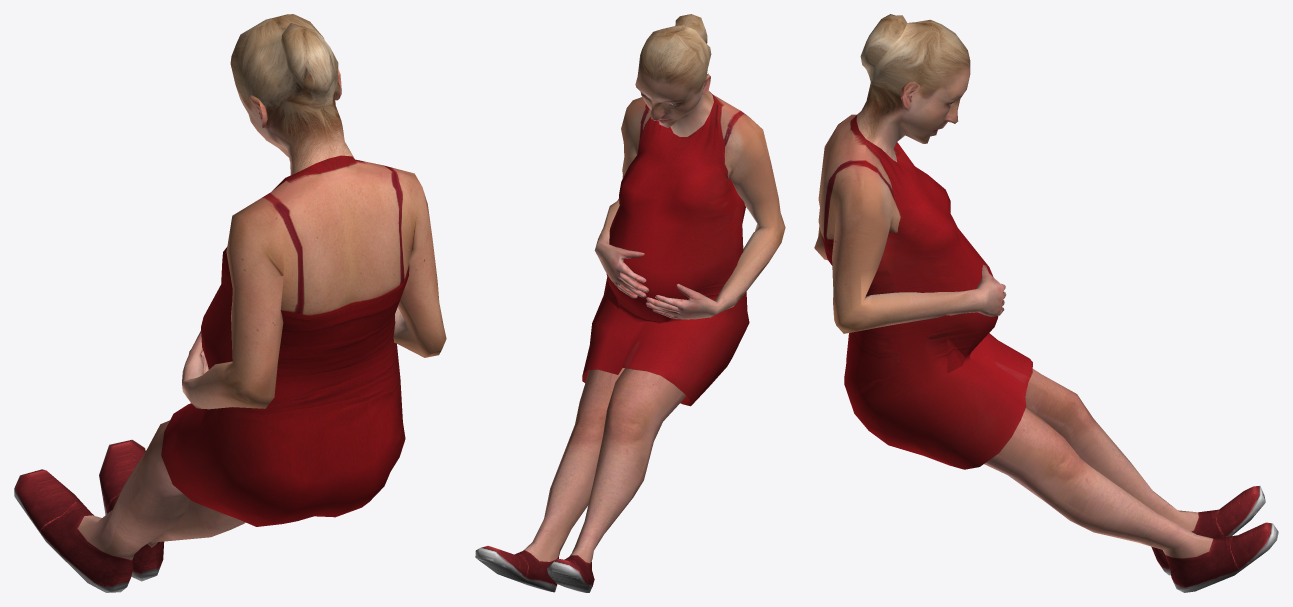
The model's file is embarazadaSentada.FBX.
The picture shows the model from 3 angles, left to right: view 1: azimuth 30°, elevation 25°; view 2: azimuth 150°, elevation 25°; view 3: azimuth 270°, elevation 25°; orthographic projection. The views are drawn at different scales.
Parts seen in each view (by area): view 1: CWom0017-Se; view 2: CWom0017-Se; view 3: CWom0017-Se.
Part boxes in pixels (bbox=[...]): CWom0017-Se: bbox=[14, 14, 446, 592]; CWom0017-Se: bbox=[475, 14, 785, 592]; CWom0017-Se: bbox=[814, 14, 1278, 592].
Bounding box in the file's own units: 0.4343 × 1.31 × 0.9781.
1 material, 1 textured.
